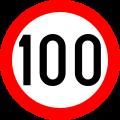Speed Limit -100-: (16, 29, 105, 89)
